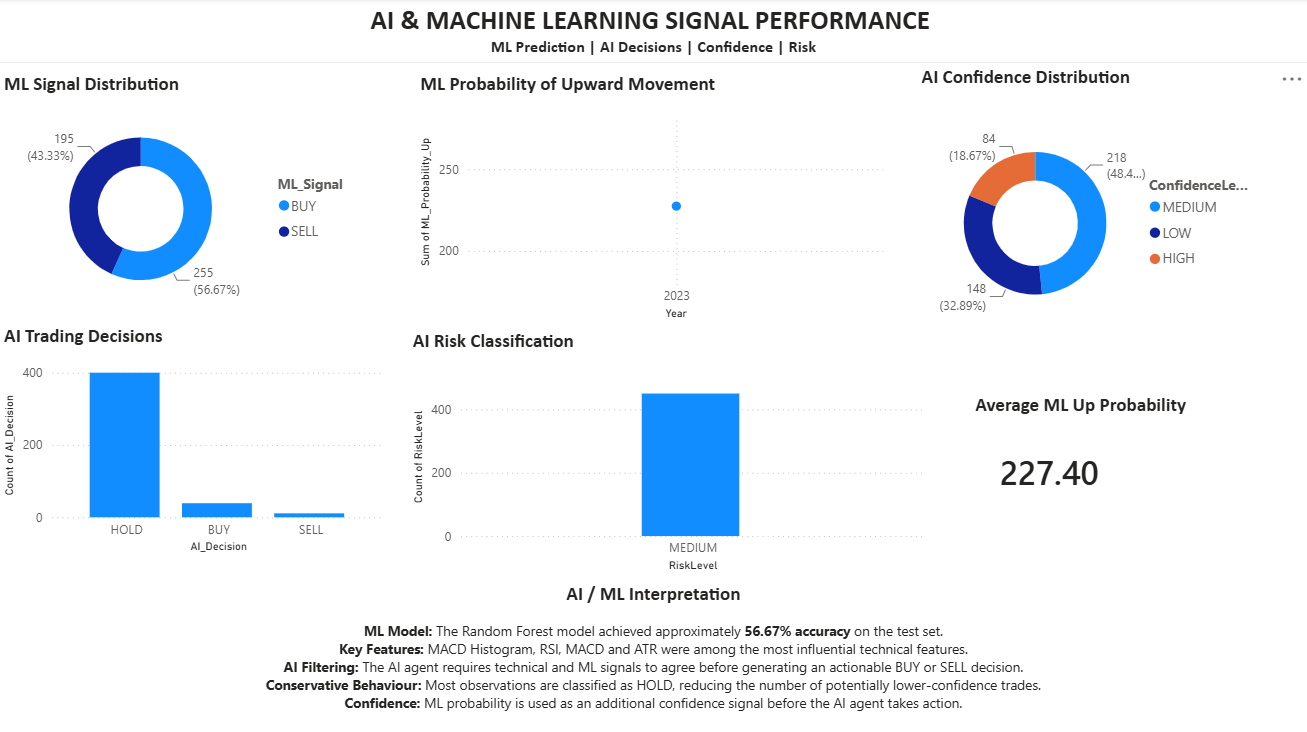

The dashboard page shown, as its layout file describes it:
{"tool":"powerbi","page":{"name":"AI & ML Performance","canvas":[1280,720],"ordinal":2},"visuals":[{"type":"textbox","box":[0,0,1280.3,63.6],"z":0},{"type":"donutChart","title":"ML Signal Distribution","fields":{"Category":["ai_agent_signals.ML_Signal"],"Y":["CountNonNull(ai_agent_signals.ML_Signal)"]},"box":[0,72.1,359.5,234.8],"z":1000},{"type":"columnChart","title":"AI Trading Decisions","fields":{"Category":["ai_agent_signals.AI_Decision"],"Y":["CountNonNull(ai_agent_signals.AI_Decision)"]},"box":[0,319.2,382.7,228.7],"z":2000},{"type":"lineChart","title":"ML Probability of Upward Movement","fields":{"Category":["ai_agent_signals.DateTime.Variation.Date Hierarchy.Year","ai_agent_signals.DateTime.Variation.Date Hierarchy.Quarter","ai_agent_signals.DateTime.Variation.Date Hierarchy.Month","ai_agent_signals.DateTime.Variation.Date Hierarchy.Day"],"Y":["Sum(ai_agent_signals.ML_Probability_Up)"]},"box":[407.2,72.1,463.5,247],"z":3000},{"type":"donutChart","title":"AI Confidence Distribution","fields":{"Category":["ai_agent_signals.ConfidenceLevel"],"Y":["CountNonNull(ai_agent_signals.ConfidenceLevel)"]},"box":[897.6,66,337.5,275.1],"z":4000},{"type":"columnChart","title":"AI Risk Classification","fields":{"Category":["ai_agent_signals.RiskLevel"],"Y":["CountNonNull(ai_agent_signals.RiskLevel)"]},"box":[399.9,324.1,511.1,242.1],"z":5000},{"type":"cardVisual","title":"Average ML Up Probability","fields":{"Data":["Sum(ai_agent_signals.ML_Probability_Up)"]},"box":[950.1,386.4,311.8,118.6],"z":6000},{"type":"textbox","title":"AI / ML Interpretation","box":[0,571.1,1280.3,150.4],"z":7000}]}

Visuals, with their boxes in screenshot pixels (x1, y1, x2, y2), scaled from the page's 1280x720 canvas onto the 1307x732 screenshot:
textbox: (x1=0, y1=0, x2=1306, y2=65)
"ML Signal Distribution" donutChart: (x1=0, y1=73, x2=367, y2=312)
"AI Trading Decisions" columnChart: (x1=0, y1=325, x2=391, y2=557)
"ML Probability of Upward Movement" lineChart: (x1=416, y1=73, x2=889, y2=324)
"AI Confidence Distribution" donutChart: (x1=917, y1=67, x2=1261, y2=347)
"AI Risk Classification" columnChart: (x1=408, y1=330, x2=930, y2=576)
"Average ML Up Probability" cardVisual: (x1=970, y1=393, x2=1289, y2=513)
"AI / ML Interpretation" textbox: (x1=0, y1=581, x2=1306, y2=731)
